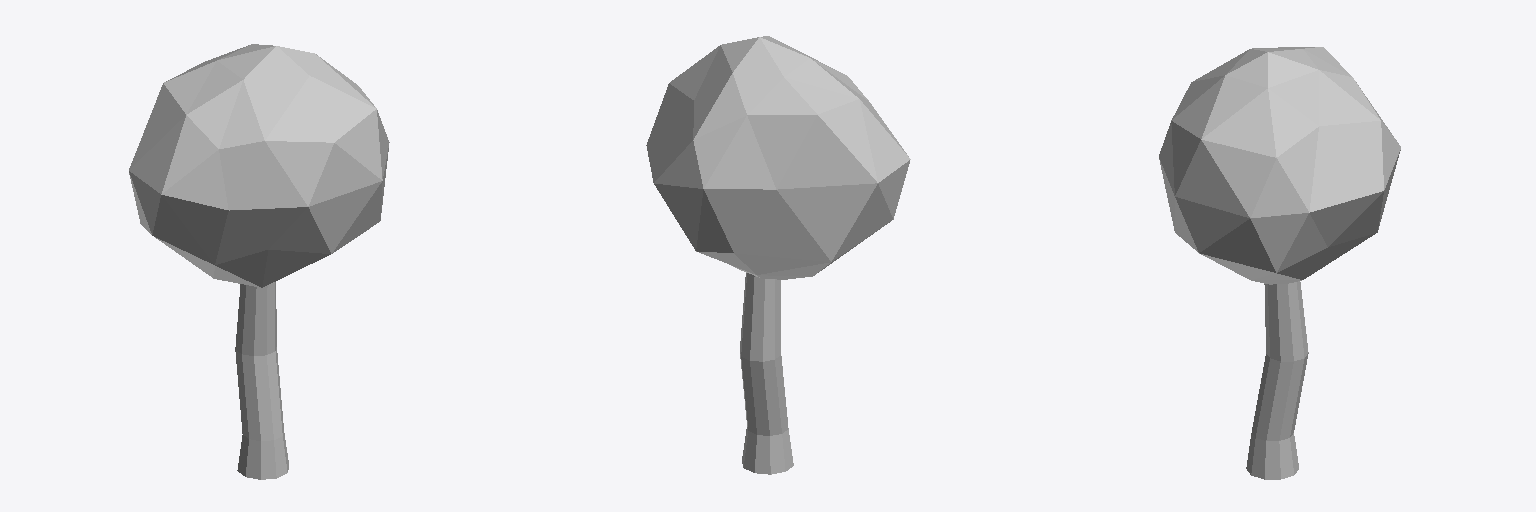
The model's file is arbolBasico.obj.
3 views of the same model, side by side, from view 1: azimuth 30°, elevation 25°; view 2: azimuth 150°, elevation 25°; view 3: azimuth 270°, elevation 25° (orthographic).
Visible parts, largest first — view 1: Arbol_1_Cylinder.004; view 2: Arbol_1_Cylinder.004; view 3: Arbol_1_Cylinder.004.
Boxes of the visible parts, <box> form: Arbol_1_Cylinder.004: <box>129,44,389,479</box>; Arbol_1_Cylinder.004: <box>646,36,910,474</box>; Arbol_1_Cylinder.004: <box>1159,47,1400,479</box>.
Bounding box in the file's own units: 5.15 × 8.75 × 4.56.